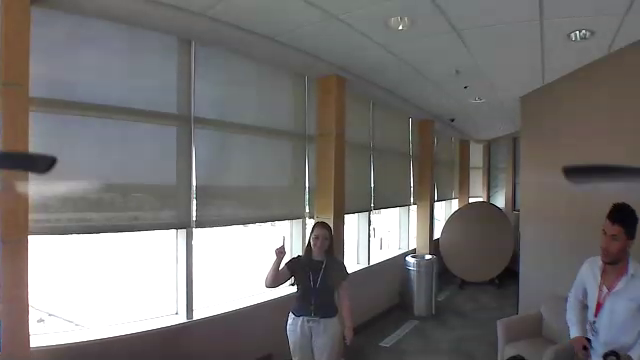up: (273, 233, 288, 261)
